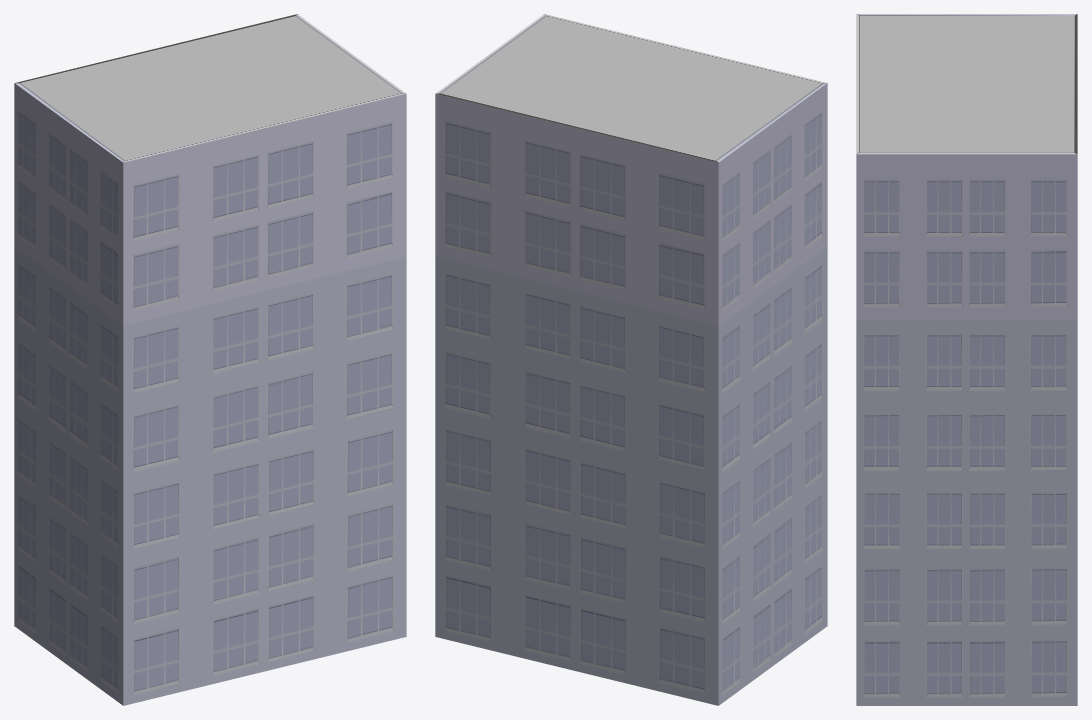
Rendered from testui2.gltf.
The picture shows the model from 3 angles, left to right: view 1: azimuth 30°, elevation 25°; view 2: azimuth 150°, elevation 25°; view 3: azimuth 270°, elevation 25°; orthographic projection.
Parts seen in each view (by area): view 1: 立方体-玻璃幕墙-正, 立方体-玻璃-侧, 立方体-材质; view 2: 立方体-玻璃幕墙-正, 立方体-玻璃-侧, 立方体-材质; view 3: 立方体-玻璃-侧, 立方体-材质.
Boxes of the visible parts, x1,y1,x2,y2 form: 立方体-玻璃幕墙-正: (123,94,406,705); 立方体-玻璃-侧: (14,83,123,705); 立方体-材质: (15,14,406,162); 立方体-玻璃幕墙-正: (435,94,718,705); 立方体-玻璃-侧: (718,83,827,705); 立方体-材质: (435,14,826,162); 立方体-玻璃-侧: (856,154,1077,705); 立方体-材质: (856,14,1077,154).
Bounding box in the file's own units: 300 × 550 × 200.
3 materials, 3 textured.
